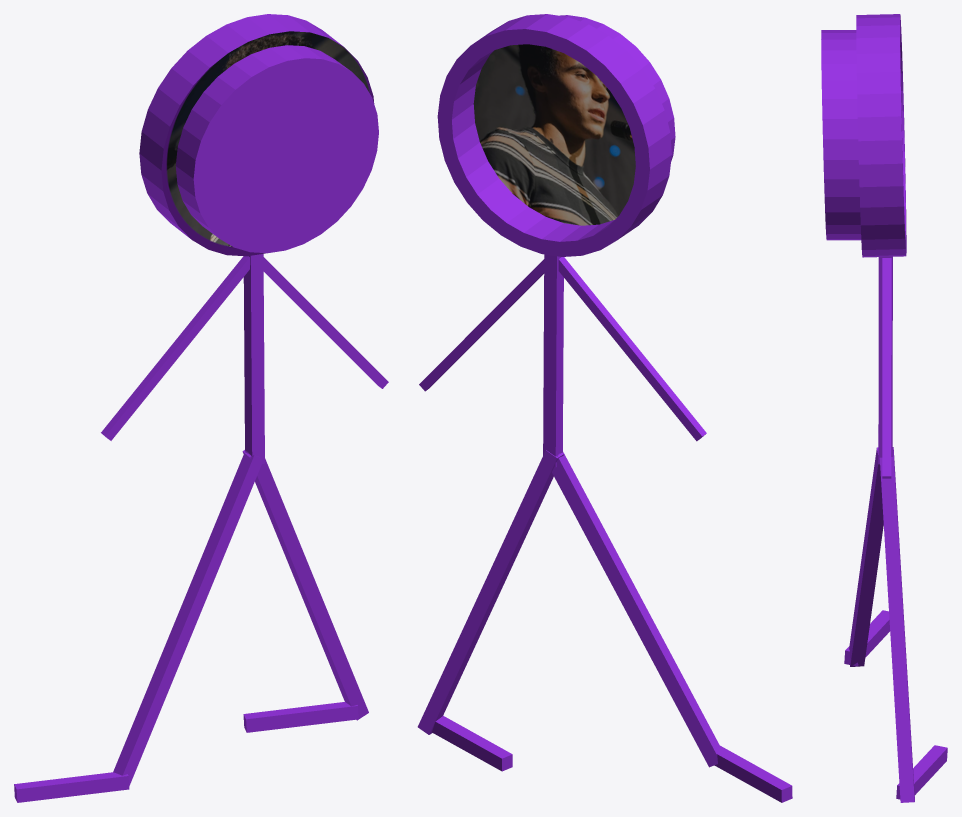
The model's file is Andre.glb.
The picture shows the model from 3 angles, left to right: view 1: azimuth 30°, elevation 25°; view 2: azimuth 150°, elevation 25°; view 3: azimuth 270°, elevation 25°; orthographic projection.
Visible parts, largest first — view 1: Cylinder; view 2: Cylinder; view 3: Cylinder.
Part boxes in pixels (x1,y1,x2,y2): Cylinder: (14, 14, 388, 802); Cylinder: (417, 14, 792, 802); Cylinder: (821, 14, 947, 802).
Bounding box in the file's own units: 5.37 × 10.11 × 1.6.
Materials: 2 (1 with a texture image).
